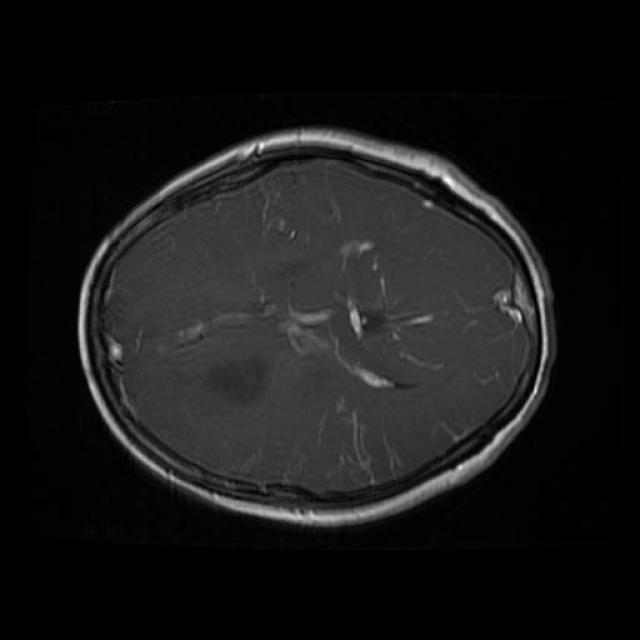Glioma: (205, 356, 267, 404)
